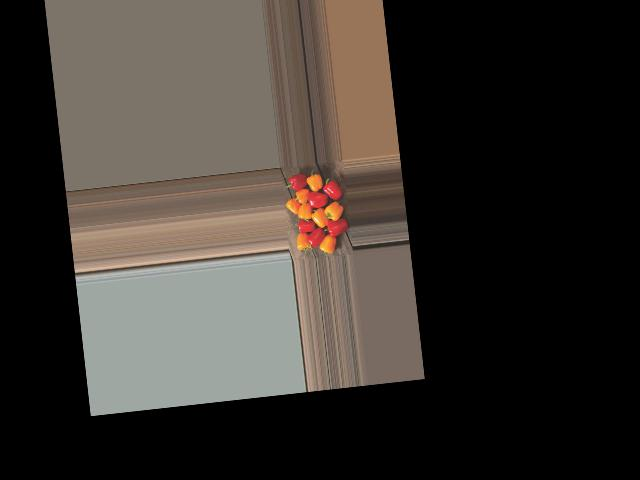bell_pepper: (317, 228, 341, 255)
